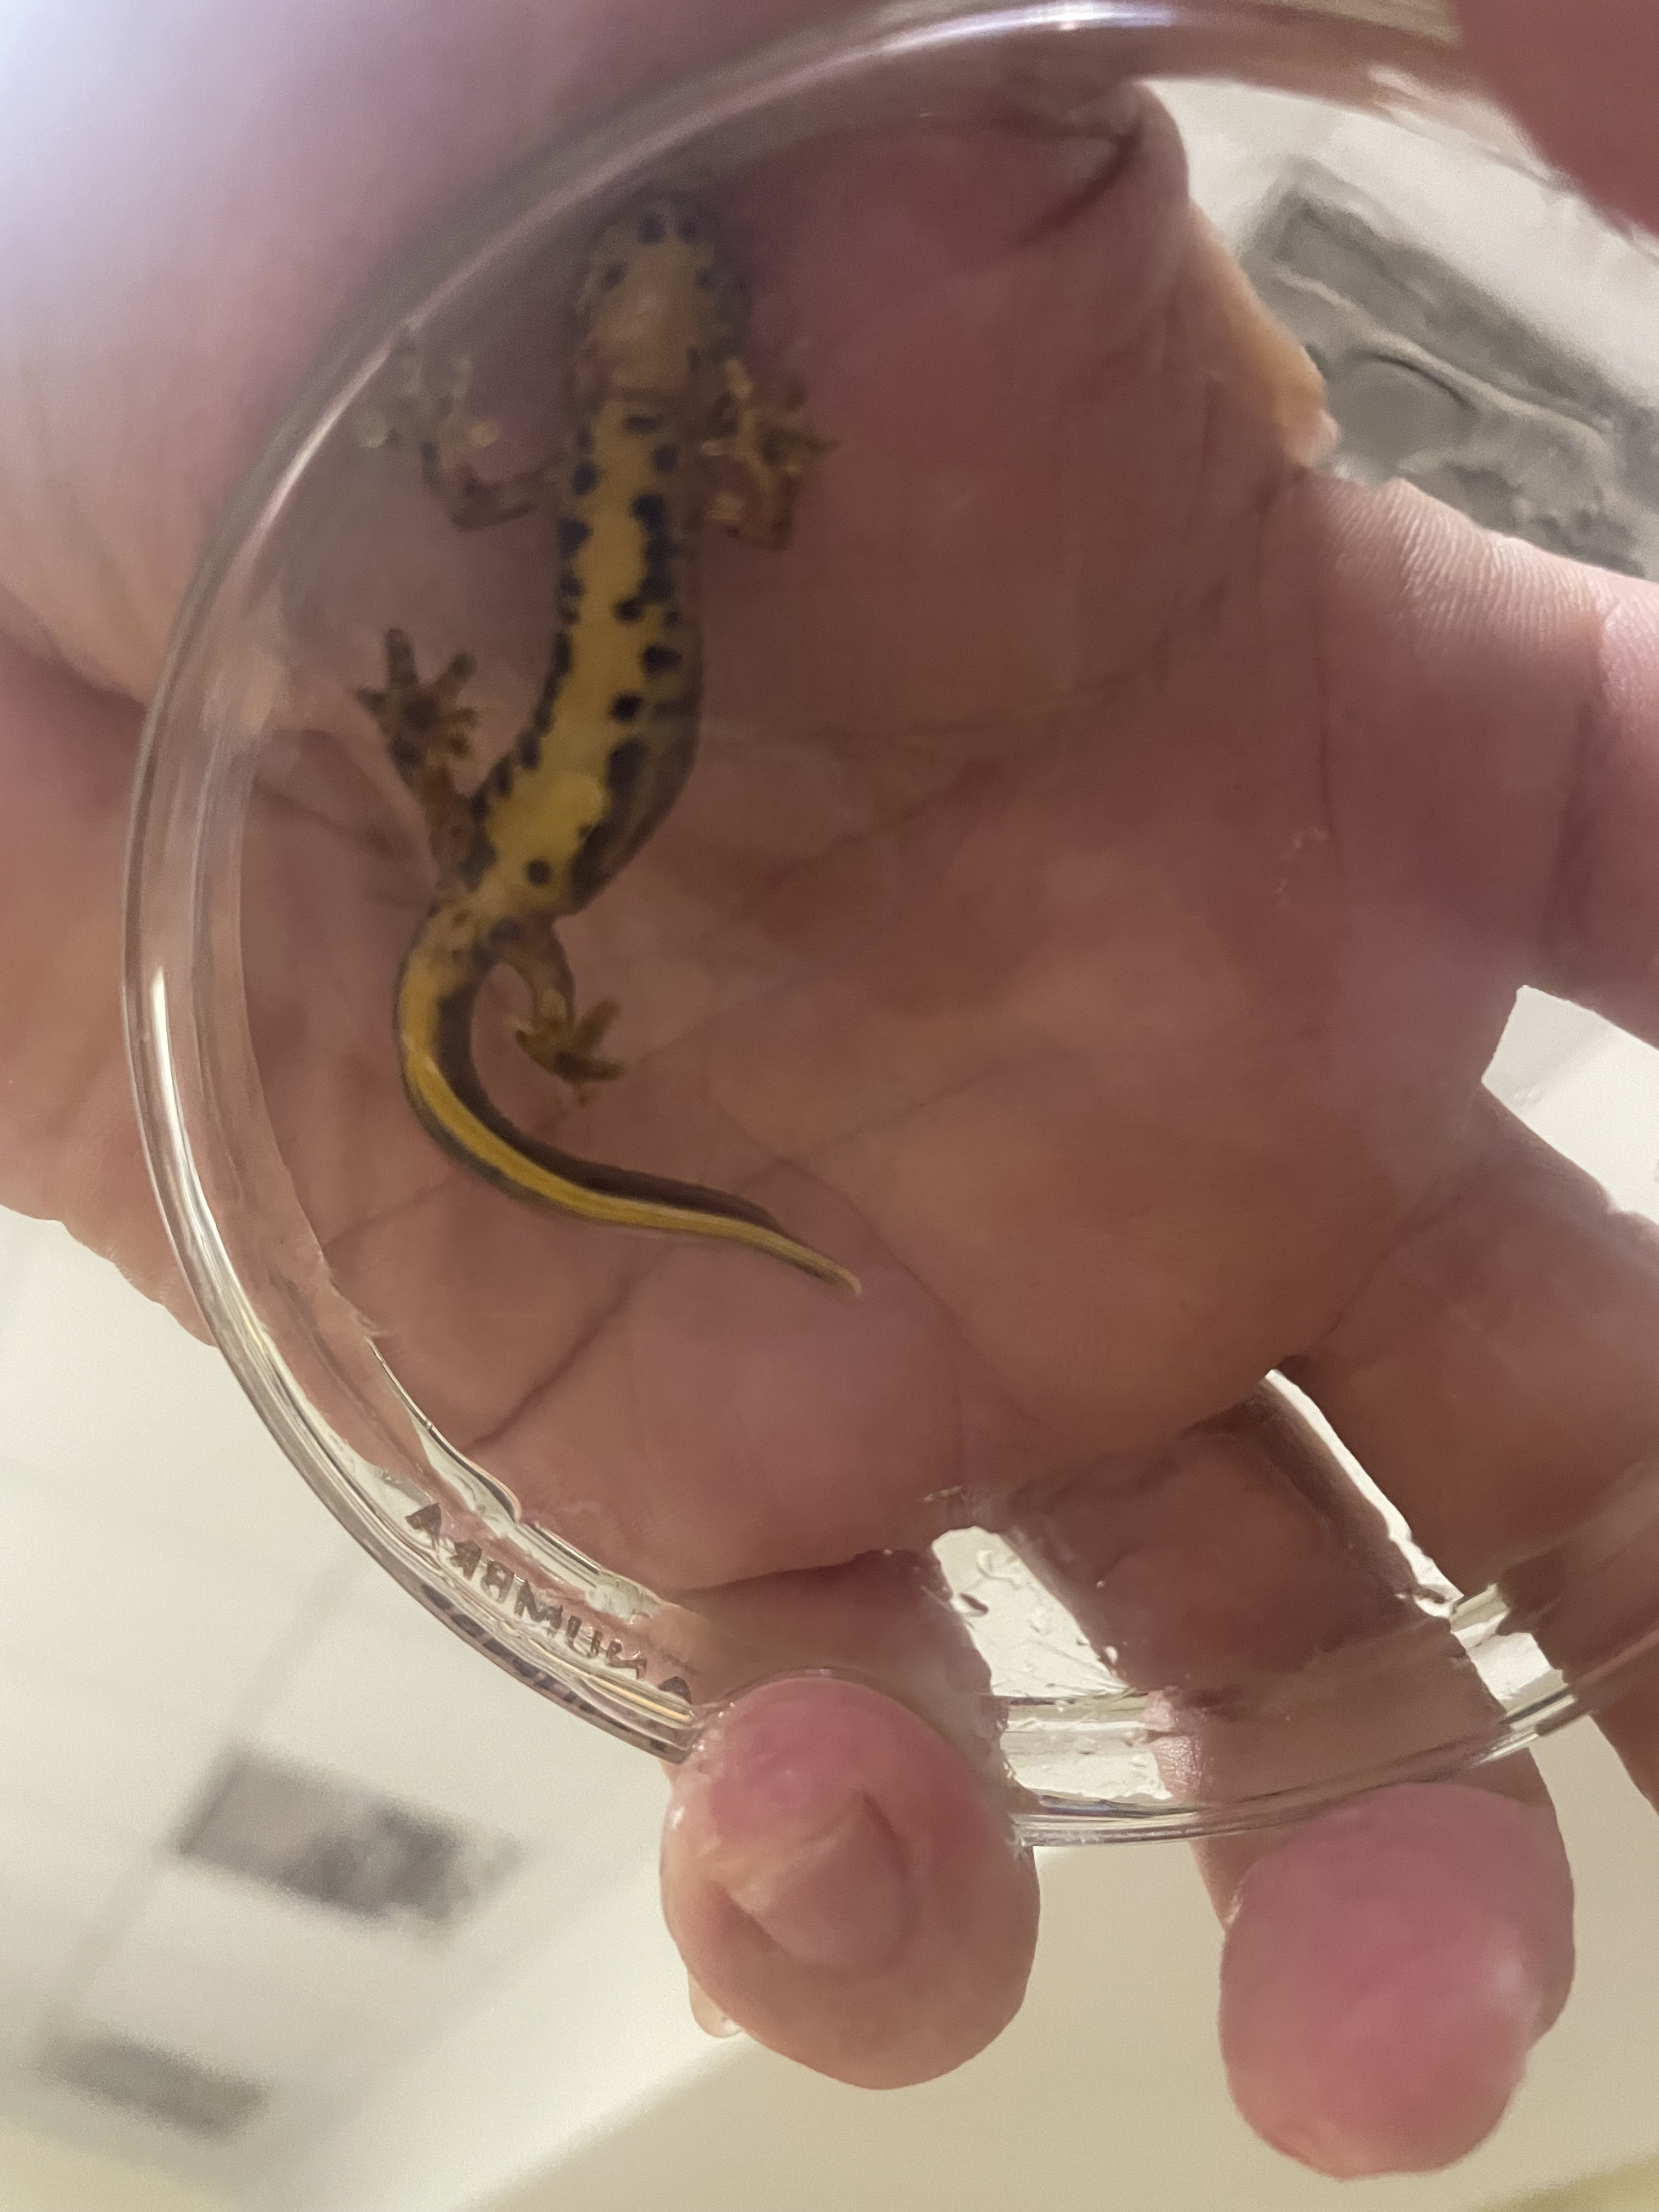Karelin_newt: (464, 507, 702, 918)
